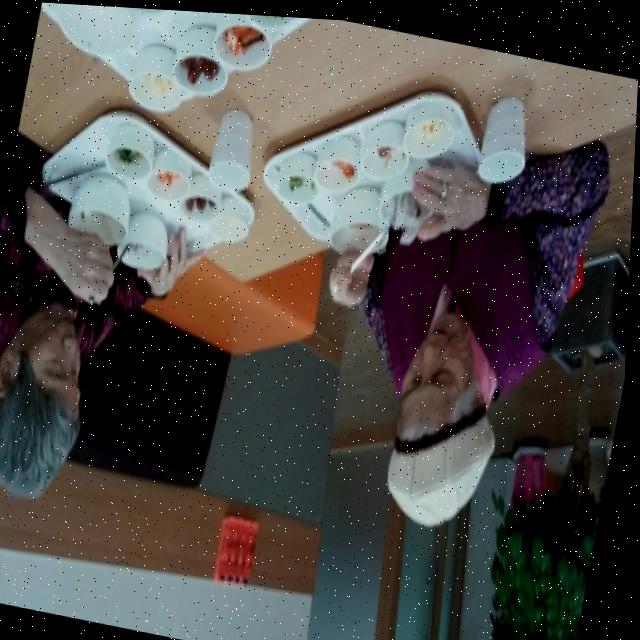eating-person: (206, 46, 639, 573), (0, 62, 287, 567)
